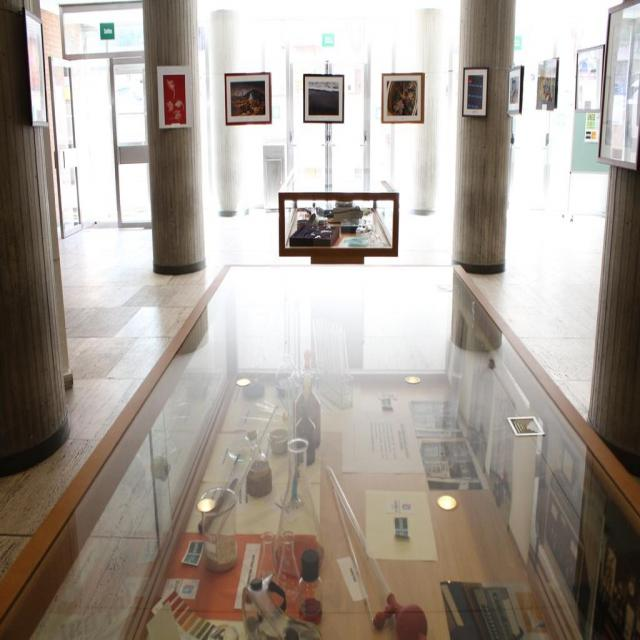table: (285, 172, 402, 265)
